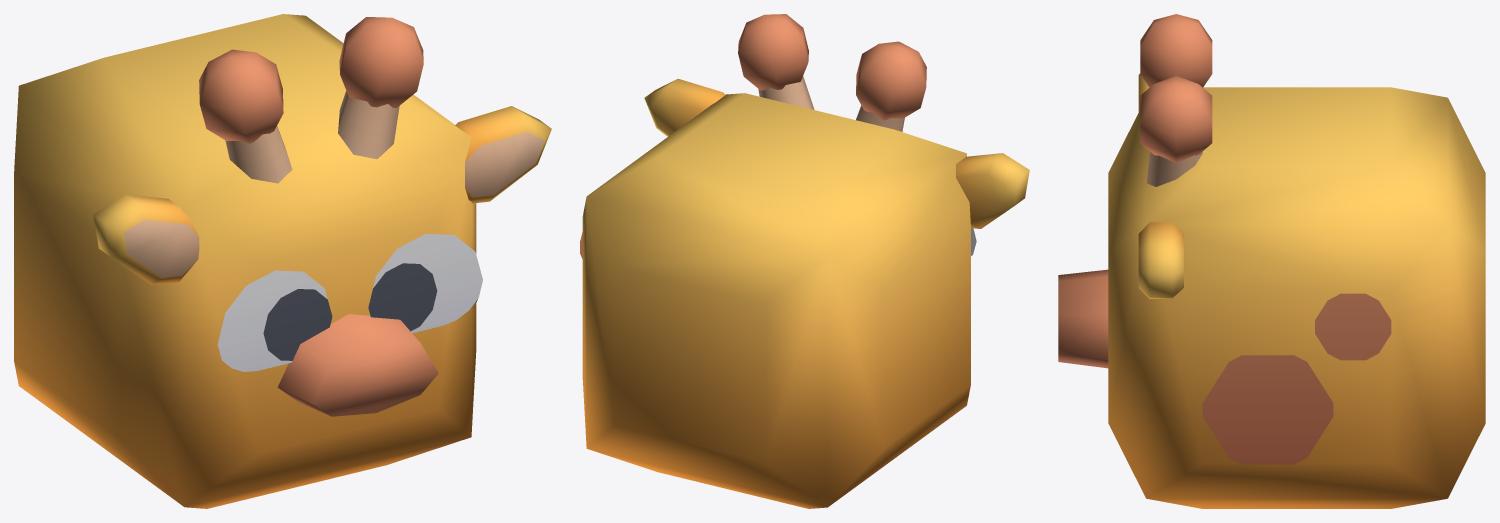
File: cube_giraffe.glb
3 views of the same model, side by side, from view 1: azimuth 30°, elevation 25°; view 2: azimuth 150°, elevation 25°; view 3: azimuth 270°, elevation 25° (orthographic). The views are drawn at different scales.
Parts seen in each view (by area): view 1: body; view 2: body; view 3: body.
Boxes of the visible parts, x1=… form: body: x1=14, y1=14, x2=551, y2=508; body: x1=580, y1=14, x2=1029, y2=508; body: x1=1058, y1=14, x2=1485, y2=508.
Size of the model in its own units: 1.56 by 1.53 by 1.42.
Materials: 1 (1 with a texture image).
